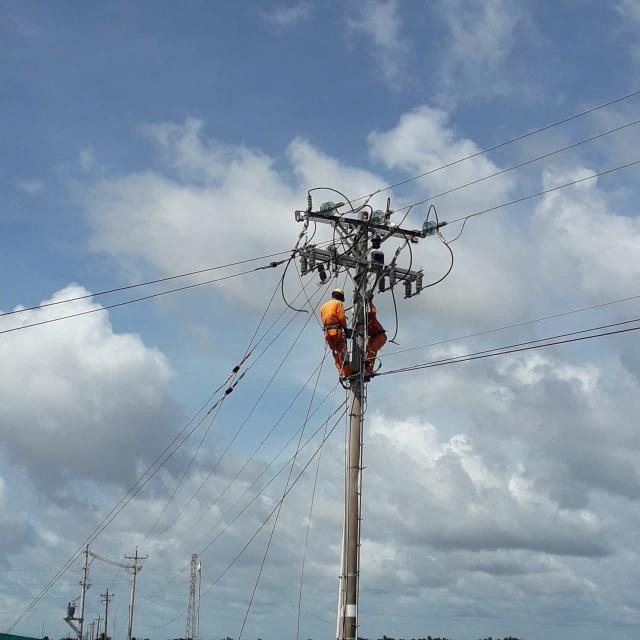harness: (317, 320, 342, 331), (370, 329, 392, 334)
helmet: (331, 286, 348, 303), (349, 305, 357, 316)
